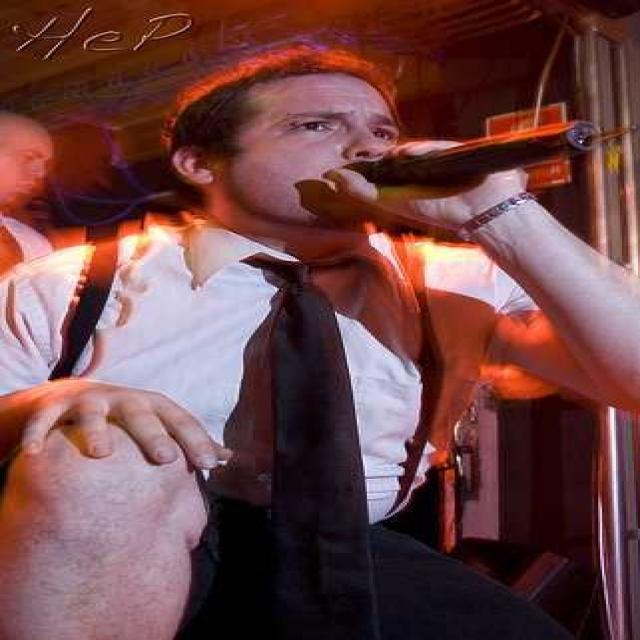microphone: (304, 118, 634, 243)
